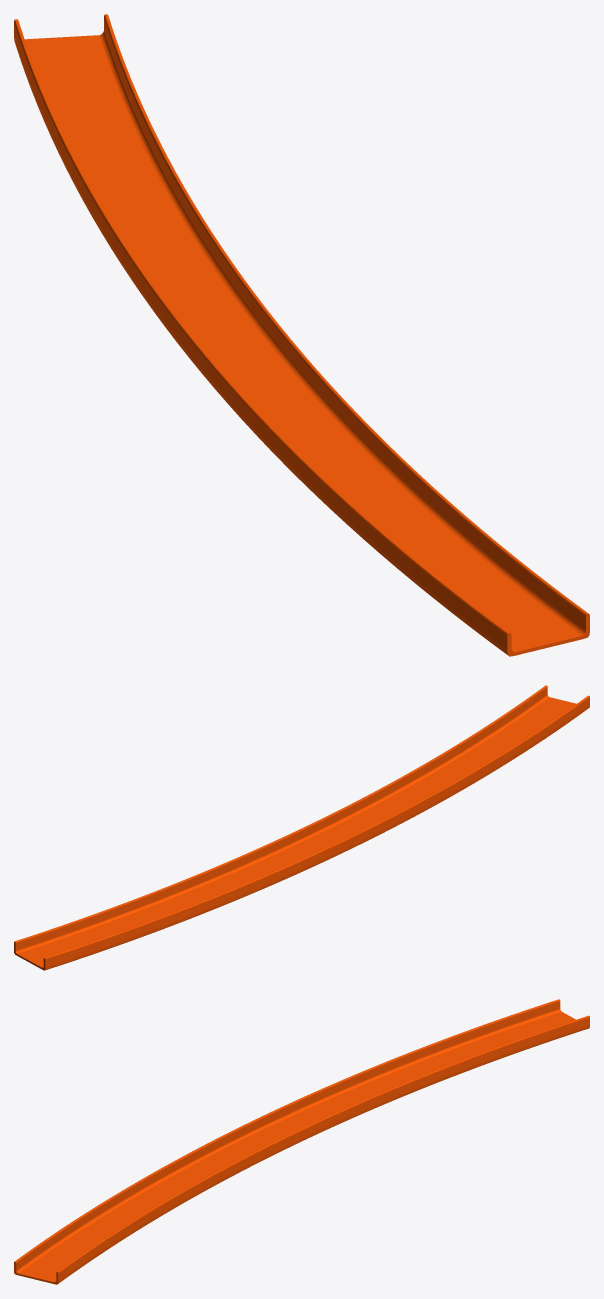
File: Curva longa 22,5.FBX
3 views of the same model, one above another, from view 1: azimuth 30°, elevation 25°; view 2: azimuth 150°, elevation 25°; view 3: azimuth 330°, elevation 25° (orthographic). The views are drawn at different scales.
Parts seen in each view (by area): view 1: Curva longa 22.5; view 2: Curva longa 22.5; view 3: Curva longa 22.5.
Boxes of the visible parts, x1,y1,x2,y2 form: Curva longa 22.5: (14,14,589,656); Curva longa 22.5: (14,685,589,970); Curva longa 22.5: (14,999,589,1284).
Bounding box in the file's own units: 1016 × 69.33 × 3946.
